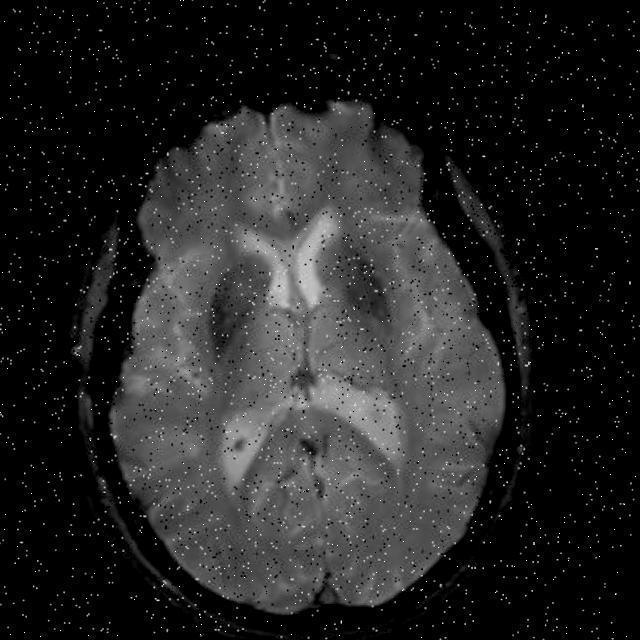EMCI: (325, 183, 472, 361), (173, 220, 317, 390)
